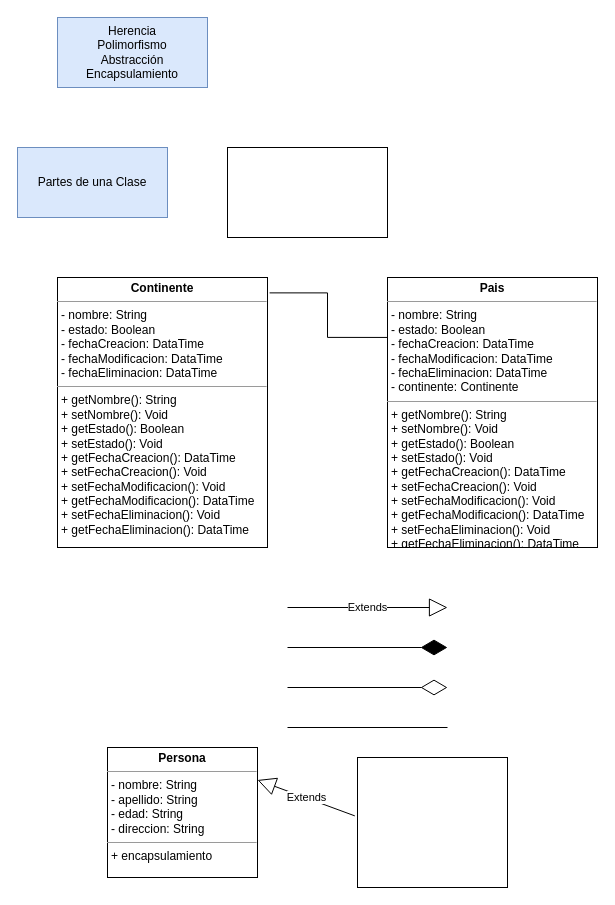
The diagram is 615 pixels wide and 905 high, and some of its shapes have lost their labels. Here are the shapes that lost their labels. From the top down, the centre of each, then its label:
(307,192): Título + atributo: Tipo de dato + metodos(): void o return
(432,822): Usuario - usuario: String - contrasenia: String + encapsulamiento
